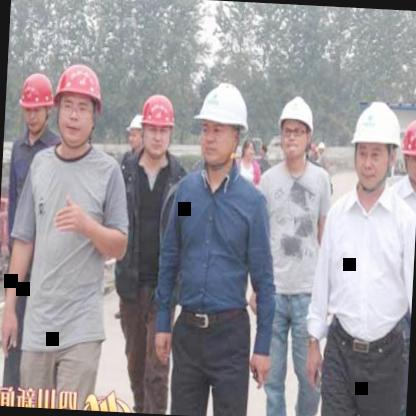helmet: (342, 90, 408, 200), (185, 73, 252, 173), (43, 52, 108, 154), (129, 83, 182, 166), (272, 90, 318, 168), (14, 63, 58, 142), (393, 106, 416, 186)
